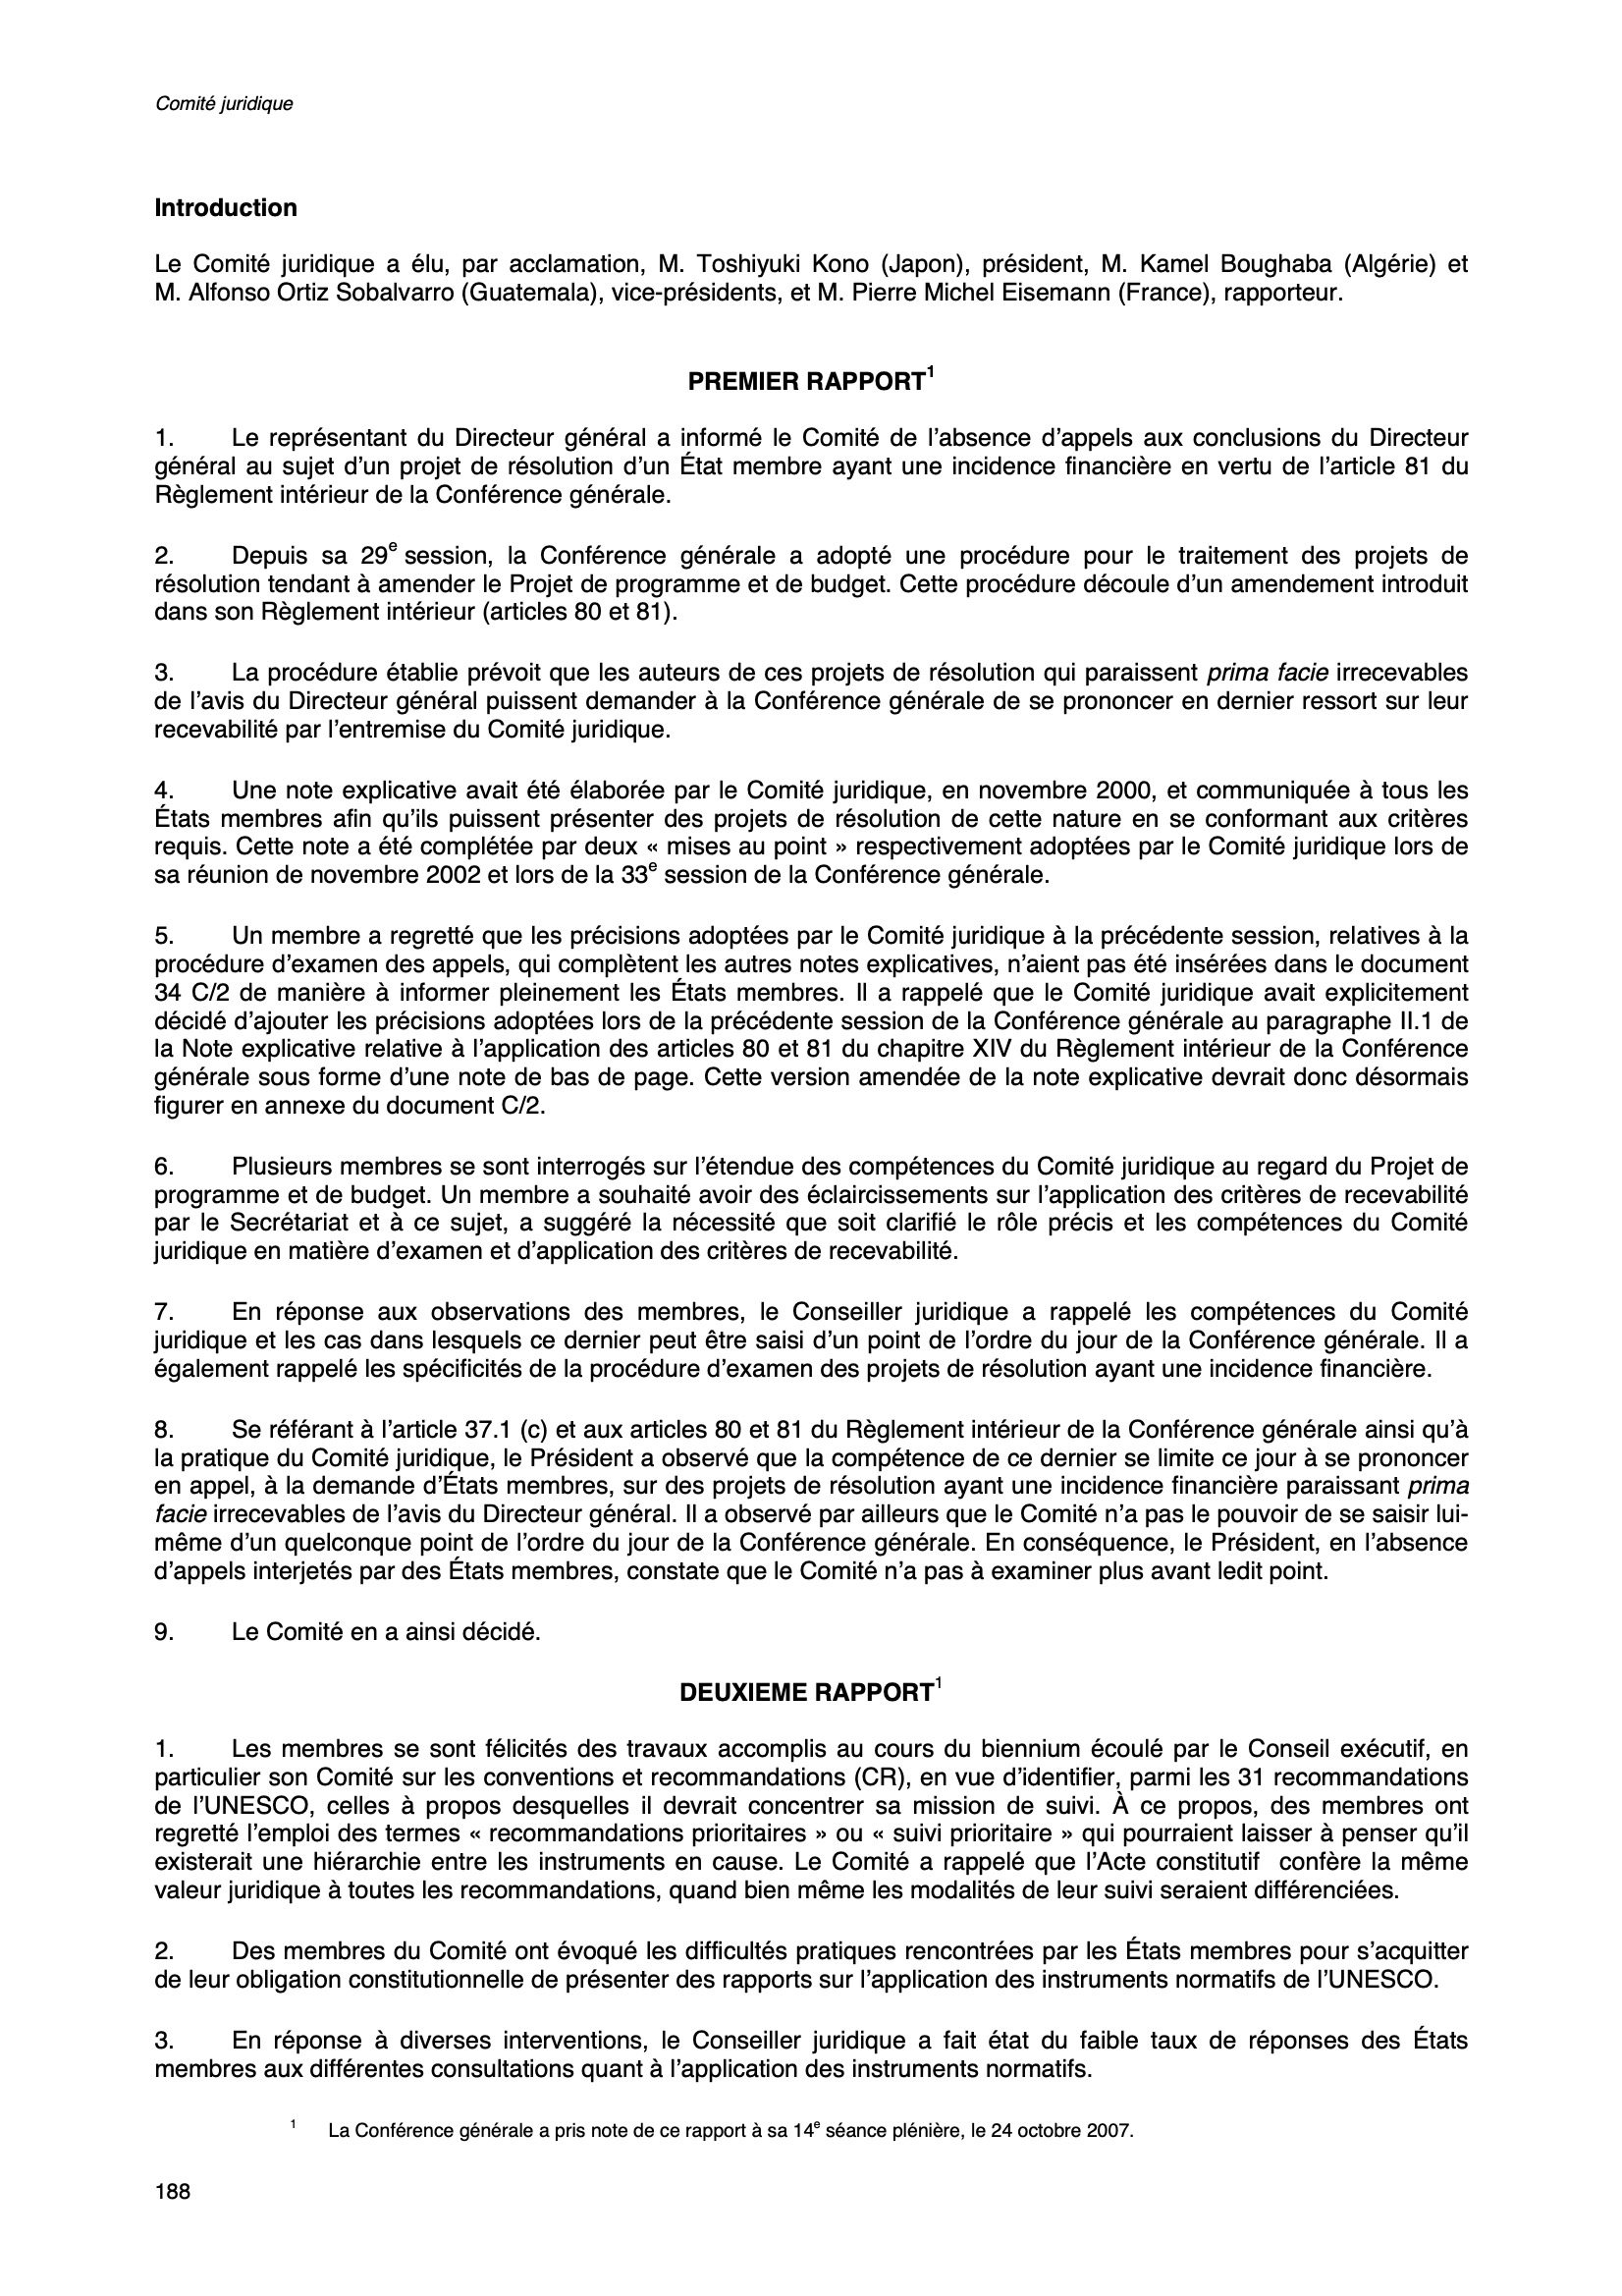MainZone-Head: (670, 1667, 948, 1715), (678, 357, 940, 405), (145, 190, 304, 227)
MainZone-ListItem: (140, 912, 1483, 1122), (142, 1408, 1480, 1593), (142, 1730, 1481, 1913), (139, 764, 1483, 899), (140, 1143, 1481, 1271), (139, 531, 1482, 637), (136, 648, 1481, 753), (142, 1287, 1480, 1393), (137, 416, 1480, 519), (141, 1927, 1481, 2003), (141, 2020, 1483, 2092), (129, 1611, 556, 1654)
MainZone-P: (144, 240, 1485, 326)
MarginTextZone-Notes: (288, 2109, 1171, 2157)
NumberingZone: (149, 2172, 202, 2212)
RunningTitleZone: (146, 85, 301, 123)
